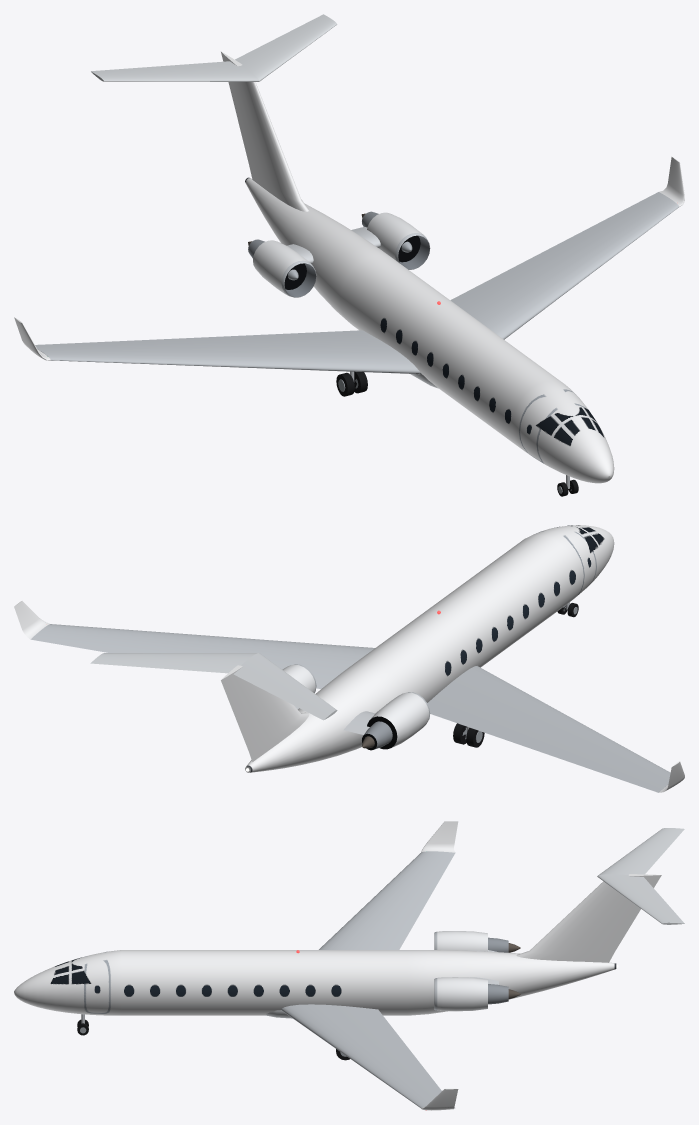
The model's file is bizm.glb.
3 renders of one model, top to bottom at view 1: azimuth 30°, elevation 25°; view 2: azimuth 150°, elevation 25°; view 3: azimuth 270°, elevation 25°, orthographic. The views are drawn at different scales.
Parts seen in each view (by area): view 1: body, gear; view 2: body, gear; view 3: body.
Part boxes in pixels (x1,y1,x2,y2): body: (14,14,684,483); gear: (336,371,578,496); body: (14,525,684,792); gear: (453,602,578,747); body: (14,821,684,1110).
Size of the model in its own units: 22.02 by 6.06 by 23.31.
19 materials, 1 textured.
